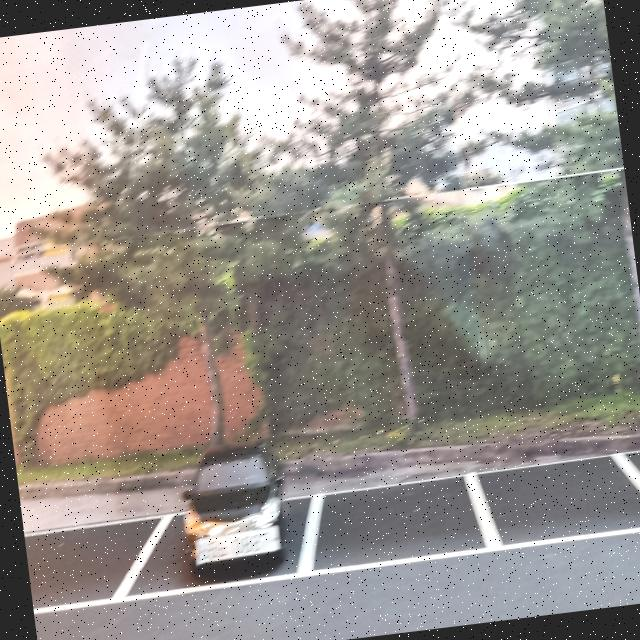empty: (292, 467, 498, 581), (477, 439, 640, 554), (23, 506, 179, 617)
occupied: (170, 442, 307, 598)
